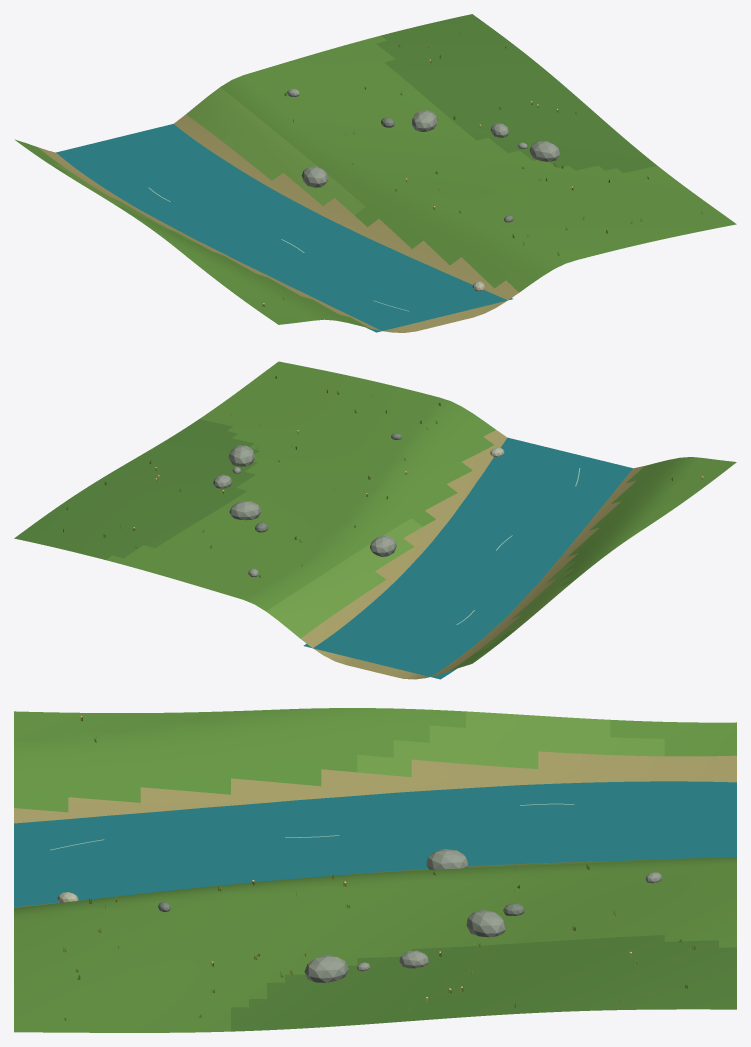
The model's file is Chunk_X0_Y0_Z-2.fbx.
3 renders of one model, top to bottom at view 1: azimuth 30°, elevation 25°; view 2: azimuth 150°, elevation 25°; view 3: azimuth 270°, elevation 25°, orthographic. The views are drawn at different scales.
Parts seen in each view (by area): view 1: Terrain.022, Water.001, Rocks.022; view 2: Terrain.022, Water.001, Rocks.022; view 3: Terrain.022, Water.001, Rocks.022, GroundCover.022.
Part boxes in pixels (x1,y1,x2,y2): Terrain.022: (14,14,736,332); Water.001: (56,124,512,332); Rocks.022: (287,88,559,291); Terrain.022: (14,361,736,679); Water.001: (303,437,632,679); Rocks.022: (213,433,504,577); Terrain.022: (14,708,736,1032); Water.001: (14,781,736,907); Rocks.022: (57,849,661,982); GroundCover.022: (36,716,695,1020).
Size of the model in its own units: 100 by 10.47 by 100.
